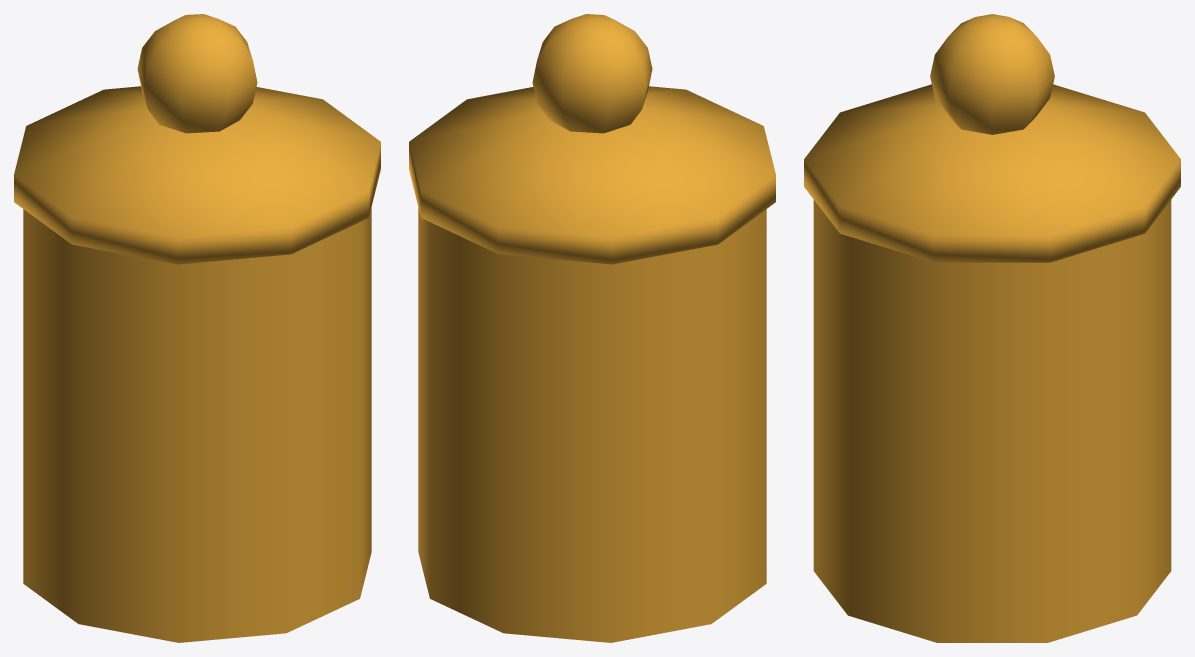
The model's file is bote.fbx.
3 renders of one model, left to right at view 1: azimuth 30°, elevation 25°; view 2: azimuth 150°, elevation 25°; view 3: azimuth 270°, elevation 25°, orthographic.
Parts seen in each view (by area): view 1: Cylinder, Cylinder.001; view 2: Cylinder, Cylinder.001; view 3: Cylinder, Cylinder.001.
Boxes of the visible parts, <box> form: Cylinder: <box>23,207,371,642</box>; Cylinder.001: <box>14,14,380,264</box>; Cylinder: <box>418,207,766,642</box>; Cylinder.001: <box>409,14,775,264</box>; Cylinder: <box>813,200,1171,642</box>; Cylinder.001: <box>804,14,1180,262</box>.
Bounding box in the file's own units: 6.31 × 10.71 × 6.64.
